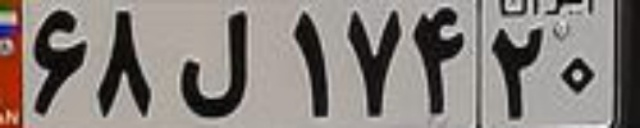0: (552, 55, 599, 97)
1: (287, 9, 330, 117)
2: (485, 26, 544, 121)
4: (412, 6, 463, 114)
6: (27, 9, 90, 118)
7: (344, 7, 403, 118)
8: (93, 8, 155, 117)
lam: (178, 8, 257, 118)
